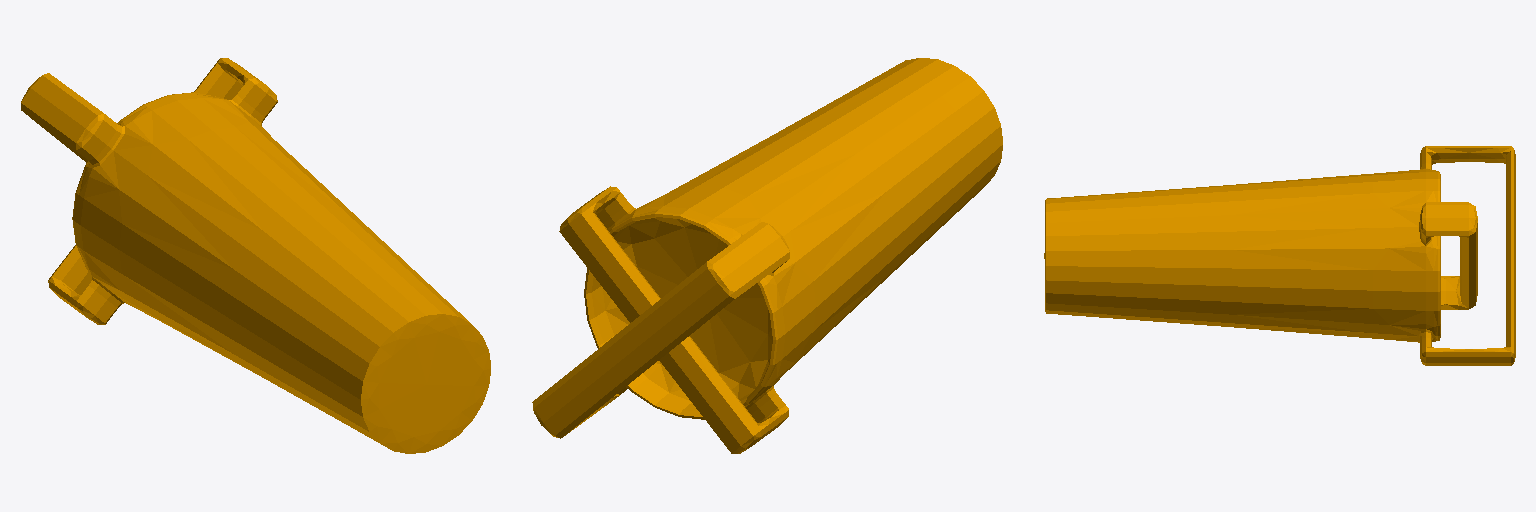
robot.urdf — 179:
<?xml version="1.0" ?>
<robot name="179">
  <link name="body">
    <visual>
      <geometry>
        <mesh filename="../shapes/179.obj"/>
      </geometry>
    </visual>
    <collision>
      <geometry>
        <mesh filename="../shapes/179.obj"/>
      </geometry>
    </collision>
  </link>
</robot>

--- Facts derived from the render (not from the file) ---
Views: 3 orthographic renders of the robot side by side, from view 1: azimuth 30°, elevation 25°; view 2: azimuth 150°, elevation 25°; view 3: azimuth 270°, elevation 25°.
Robot: 179 — 1 links, 0 joints (none); root link body; default pose: all joints at 0.
Links seen in each view (by area): view 1: body; view 2: body; view 3: body.
Link boxes in pixels (left/top/right/bottom): body: left=21, top=58, right=490, bottom=453; body: left=532, top=58, right=1002, bottom=453; body: left=1044, top=146, right=1515, bottom=365.
Size in the robot's own frame: 4.07 by 10.72 by 4.07 metres.
Meshes: 1 distinct files referenced, 1 mesh visuals loaded (1 OBJ).